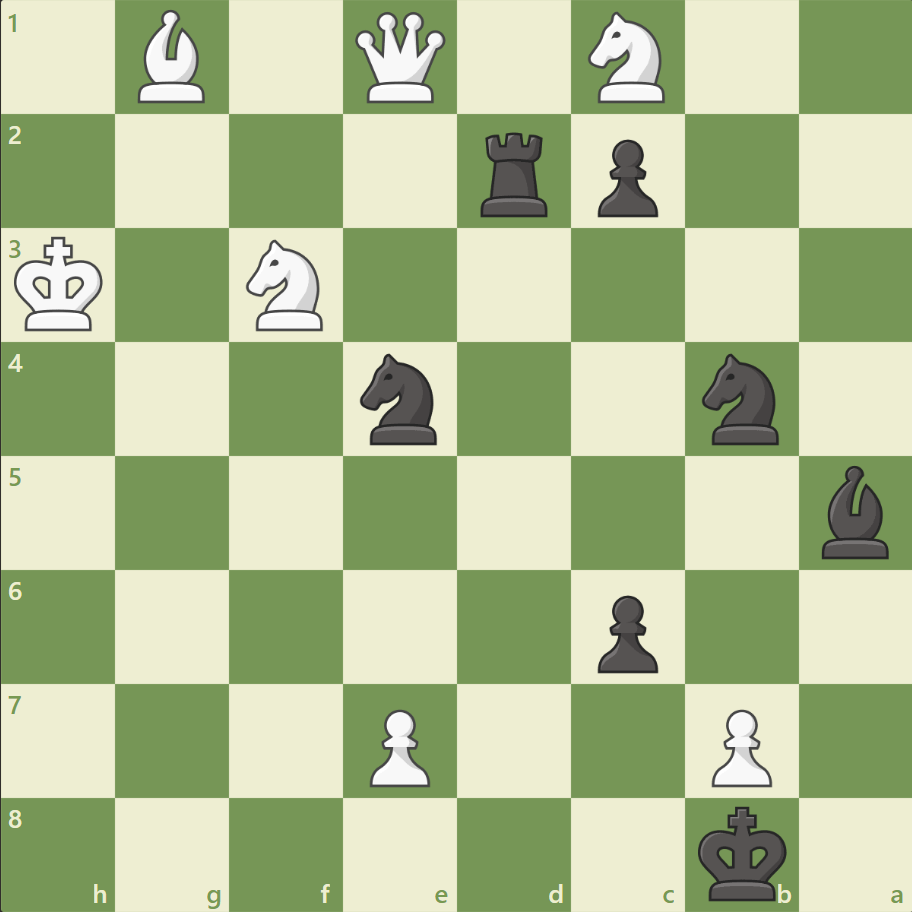B: (131, 6, 215, 109)
K: (11, 231, 111, 339)
N: (238, 234, 335, 337), (579, 7, 676, 110)
P: (701, 700, 776, 791), (361, 700, 435, 791)
Q: (351, 9, 450, 108)
b: (812, 460, 896, 563)
k: (692, 798, 792, 906)
n: (351, 348, 449, 450), (692, 348, 789, 450)
p: (588, 586, 662, 677), (588, 132, 662, 223)
r: (473, 125, 556, 222)
